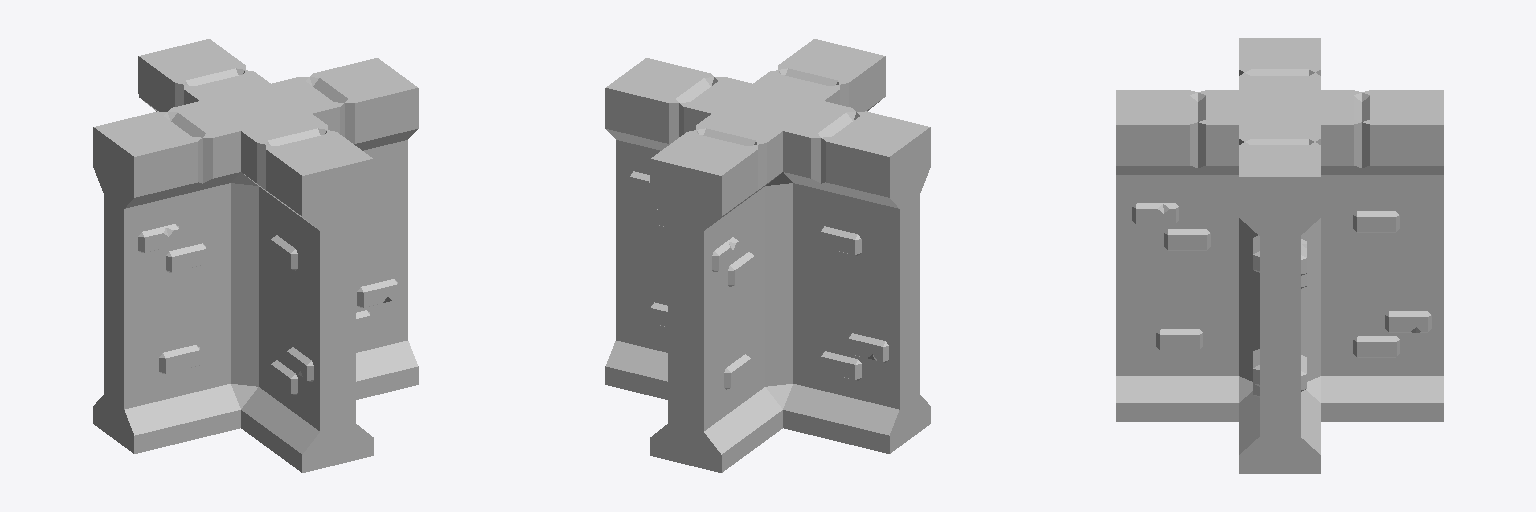
File: wall_crossing.obj
3 views of the same model, side by side, from view 1: azimuth 30°, elevation 25°; view 2: azimuth 150°, elevation 25°; view 3: azimuth 270°, elevation 25° (orthographic).
Visible parts, largest first — view 1: wall_crossing; view 2: wall_crossing; view 3: wall_crossing.
Boxes of the visible parts, x1=… form: wall_crossing: x1=93, y1=39, x2=418, y2=472; wall_crossing: x1=605, y1=39, x2=930, y2=472; wall_crossing: x1=1116, y1=38, x2=1443, y2=473.
Size of the model in its own units: 4 by 4 by 4.